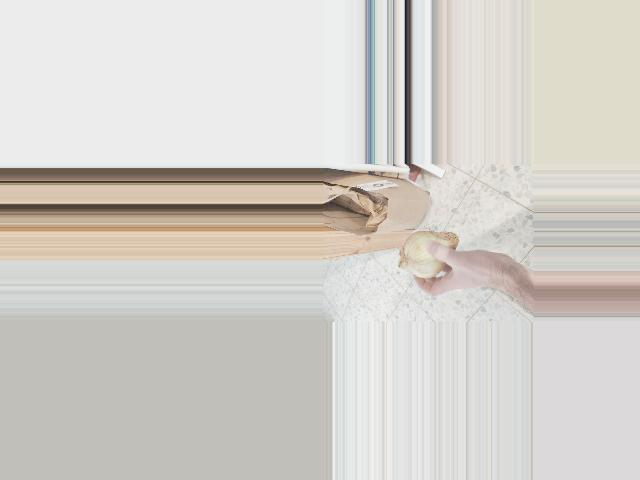onion: (396, 225, 460, 283)
